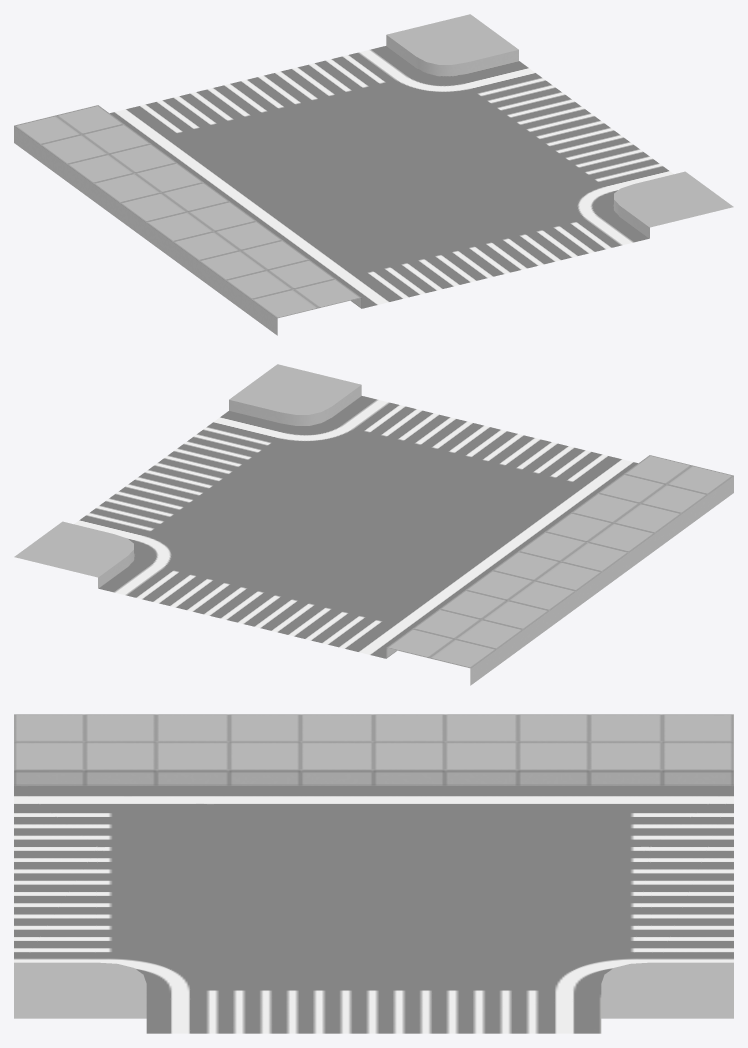
File: Road3.glb
3 renders of one model, top to bottom at view 1: azimuth 30°, elevation 25°; view 2: azimuth 150°, elevation 25°; view 3: azimuth 270°, elevation 25°, orthographic. The views are drawn at different scales.
Parts seen in each view (by area): view 1: Object002; view 2: Object002; view 3: Object002.
Part boxes in pixels (x1,y1,x2,y2): Object002: (14, 14, 733, 335); Object002: (14, 364, 733, 685); Object002: (14, 714, 733, 1033).
Bounding box in the file's own units: 6 × 0.2183 × 6.
Materials: 1 (1 with a texture image).
